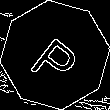P_NE: (25, 24, 85, 86)
